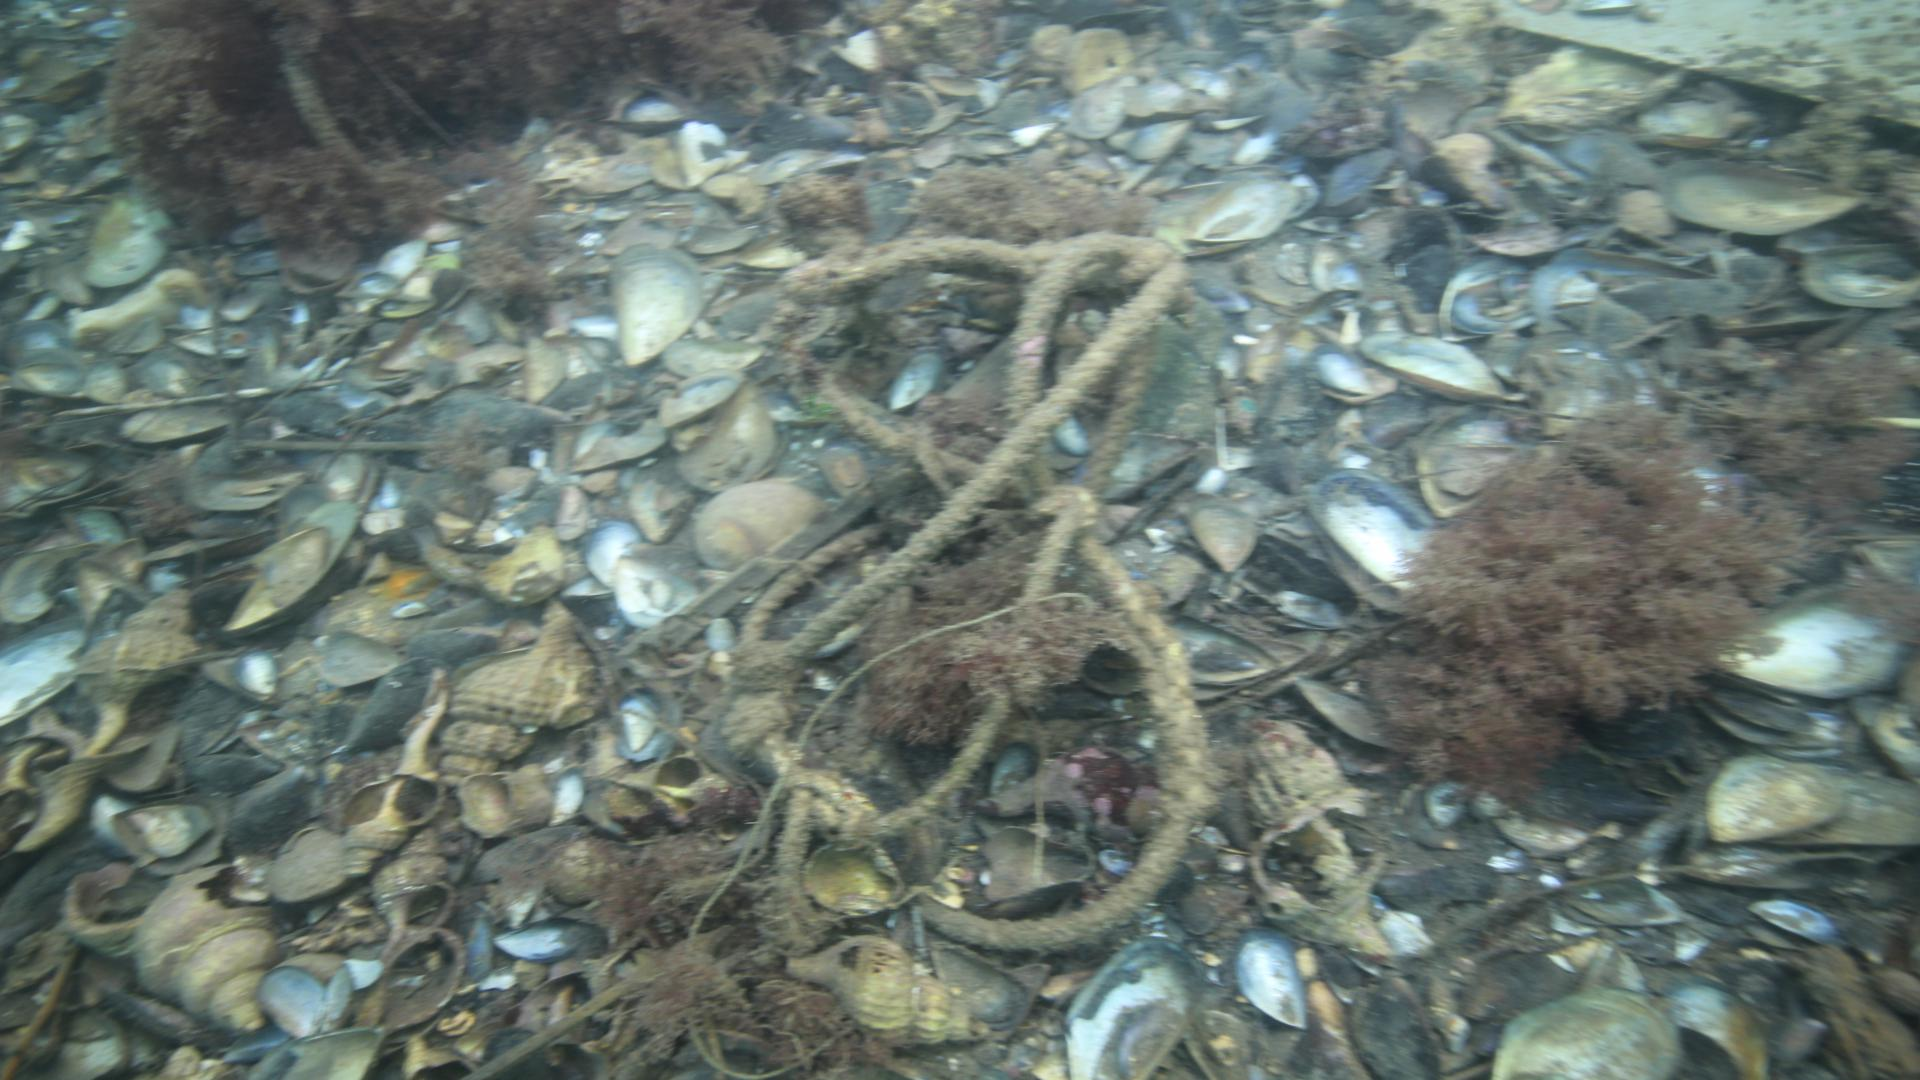bundle of ropes: (720, 228, 1224, 957)
